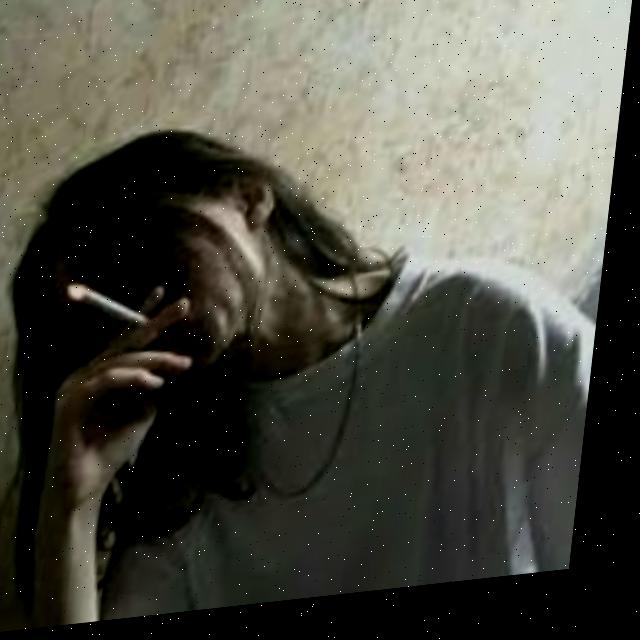cigarette: (69, 279, 161, 338)
